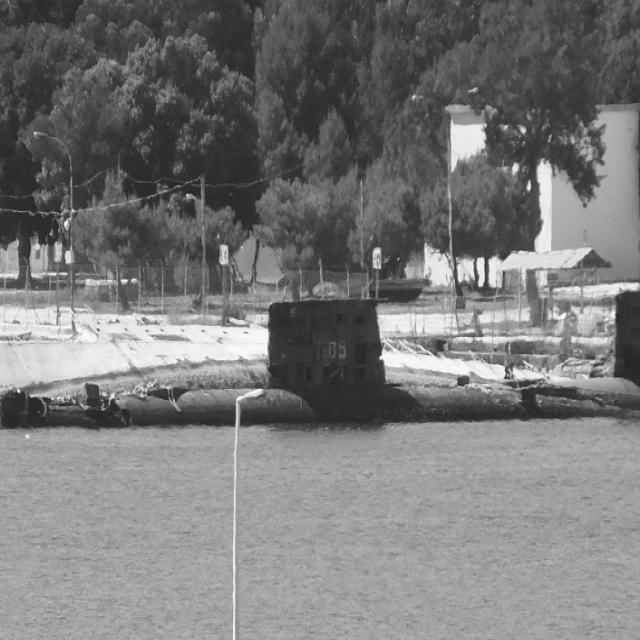submarine: (1, 266, 640, 427), (516, 285, 640, 410)
